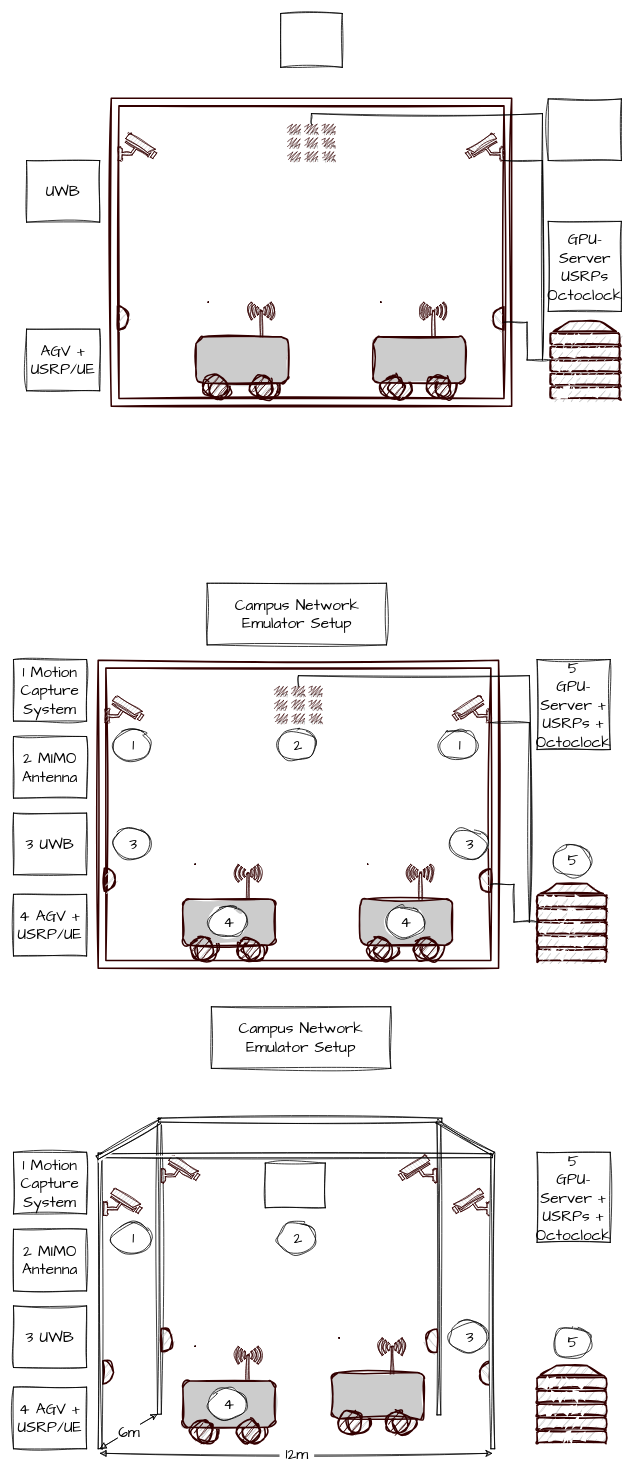
The diagram is 635 pixels wide and 1478 high, and some of its shapes have lost their labels. Here are the shapes that lost their labels. From the top down, the box of each, then its label:
(280, 13, 342, 67): MIMO - Antenna
(547, 98, 621, 161): Motion Capture System
